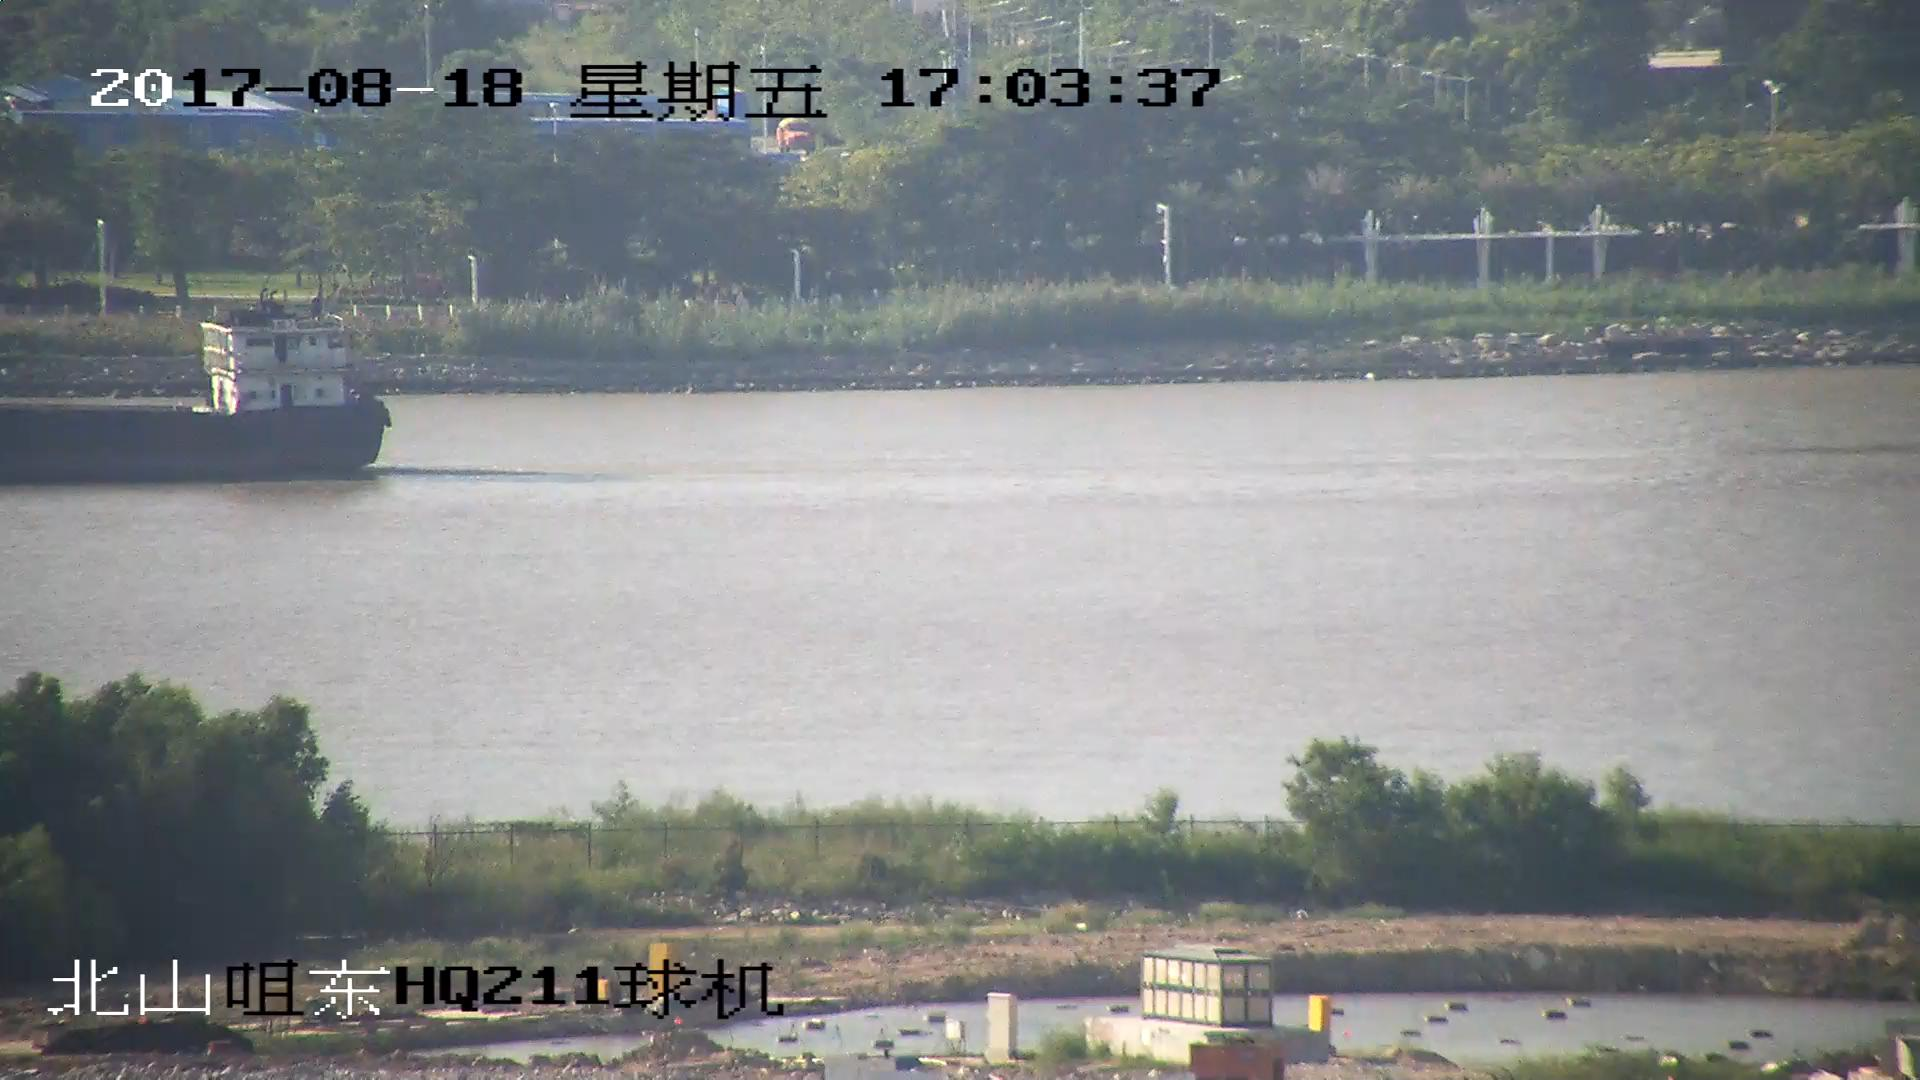general cargo ship: (1, 304, 391, 479)
